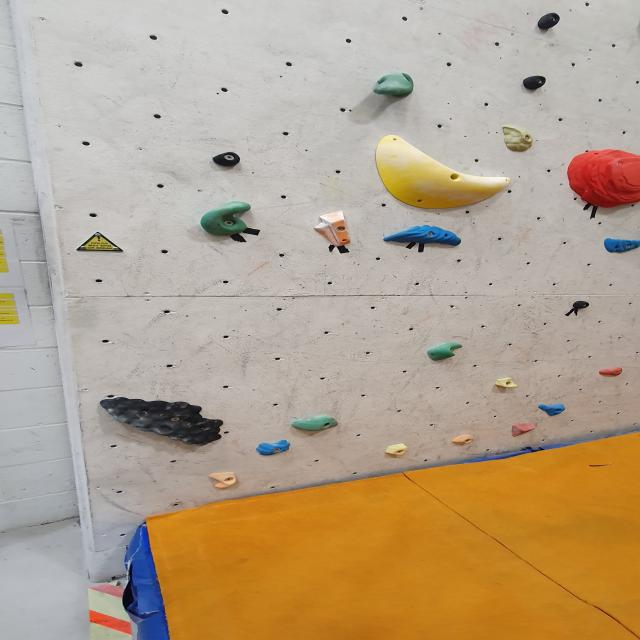Crimp: (380, 223, 472, 248), (256, 440, 292, 457), (384, 442, 420, 458), (210, 469, 237, 489), (535, 402, 569, 416), (446, 433, 481, 445), (494, 376, 524, 389), (511, 422, 538, 436), (597, 366, 628, 376)
Jug: (197, 202, 254, 237), (373, 70, 421, 98), (290, 415, 341, 431)
Pinch: (316, 210, 357, 248)
Sloper: (372, 138, 513, 209), (566, 149, 640, 208)
